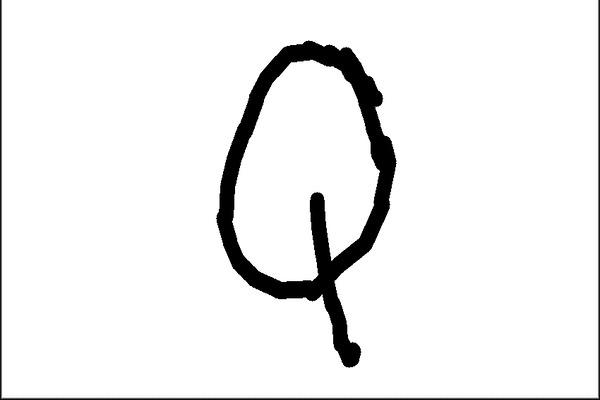Q: (193, 20, 411, 371)
